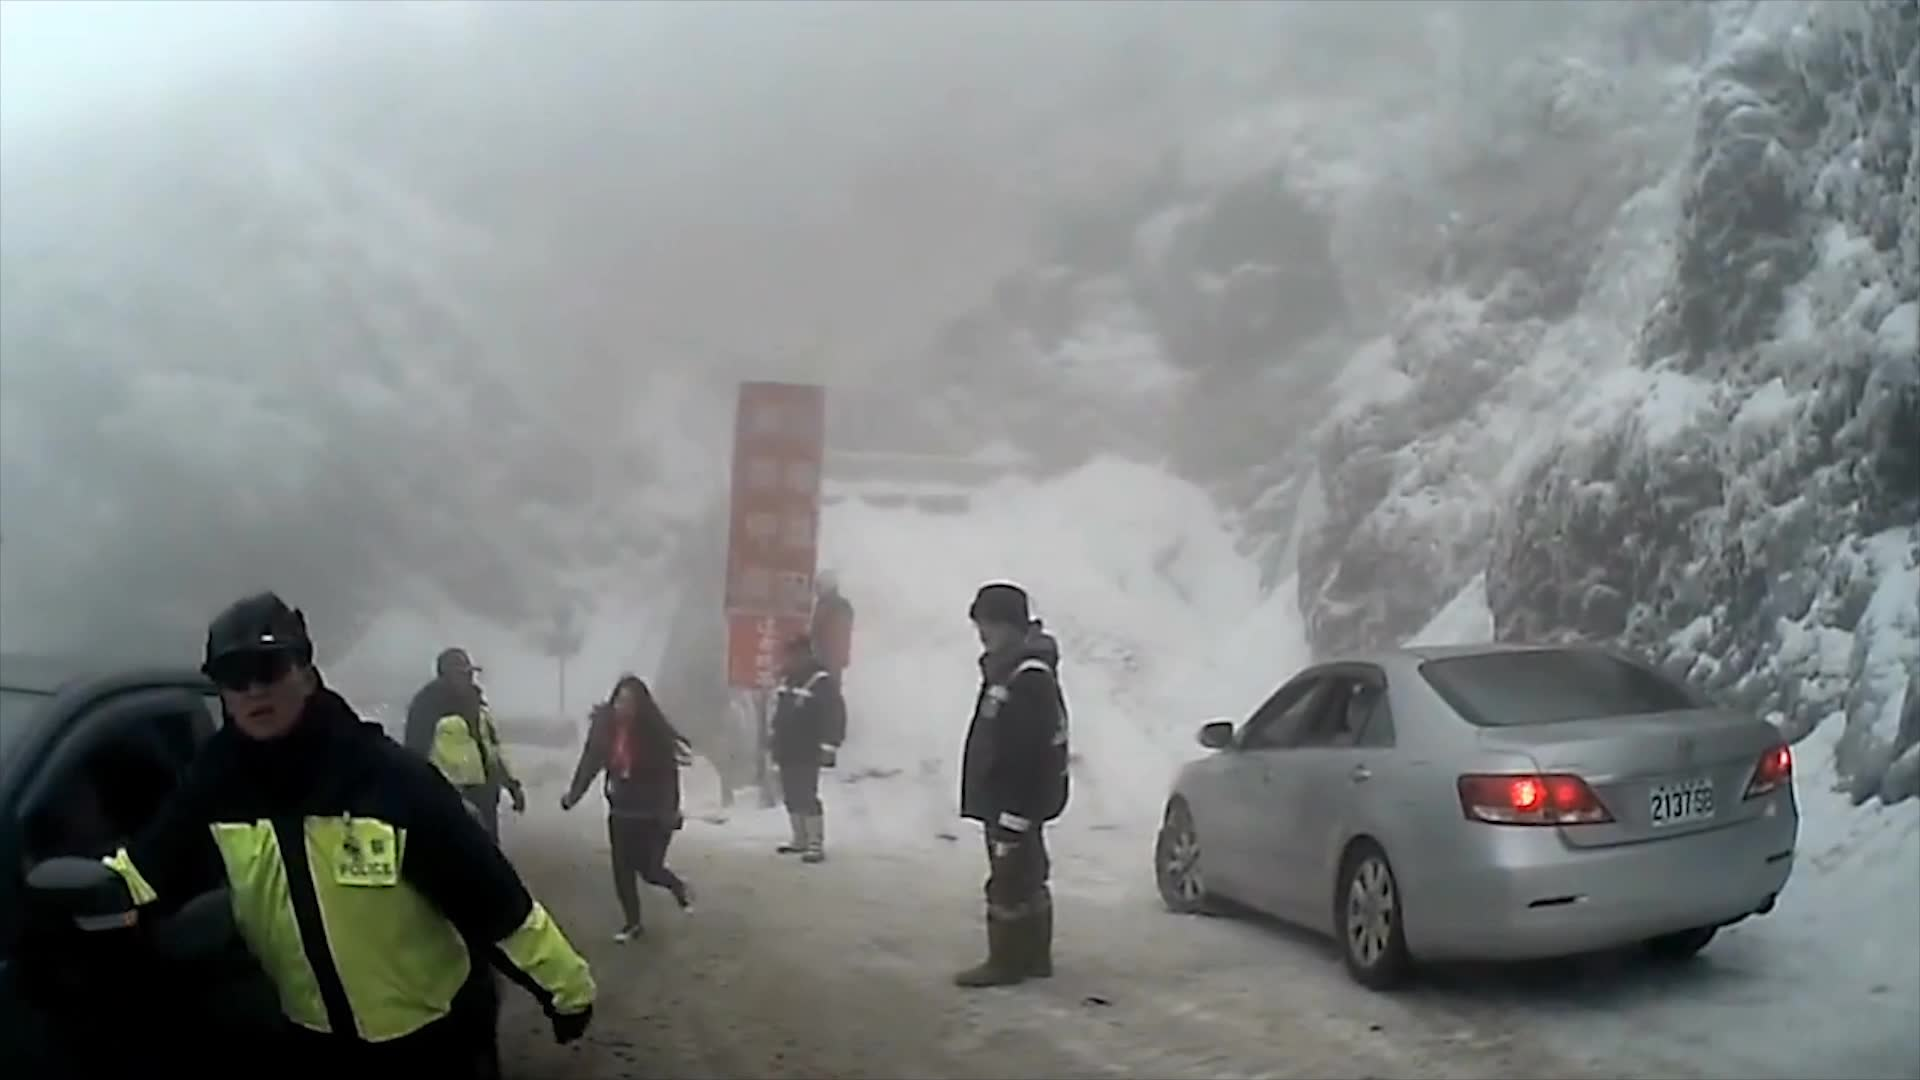pedestrian: (50, 593, 596, 1080), (942, 585, 1073, 988), (556, 674, 706, 944), (396, 644, 525, 930), (765, 639, 848, 864), (805, 565, 866, 755)
vehicle: (1153, 641, 1799, 990), (0, 654, 498, 1079)
